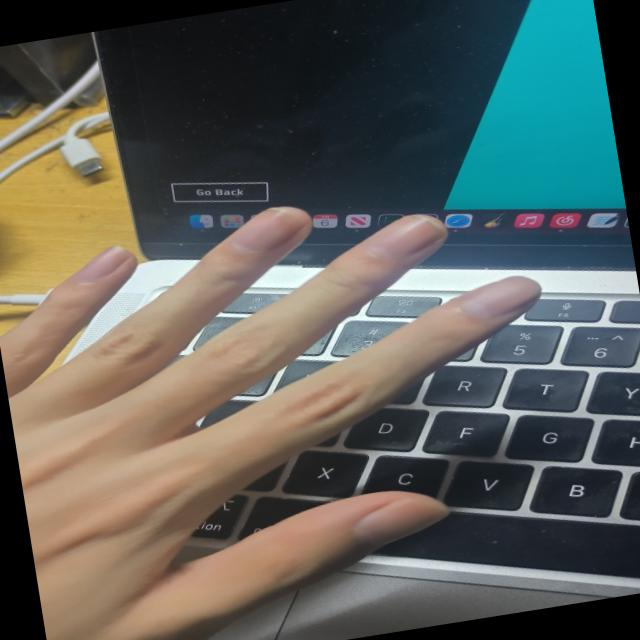Nail: (356, 499, 449, 546), (460, 276, 542, 317), (231, 208, 304, 251), (368, 216, 442, 258), (74, 246, 130, 282)
